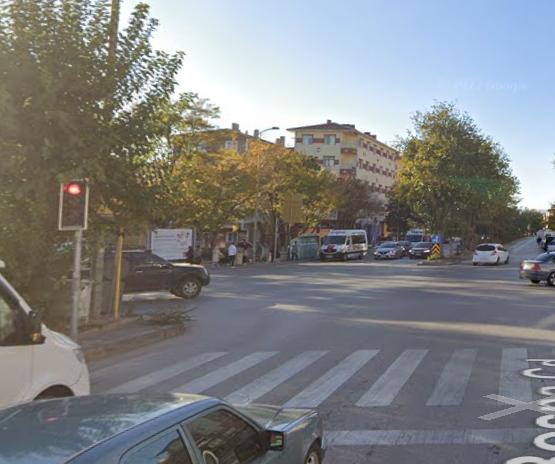redlight: (61, 179, 85, 230)
